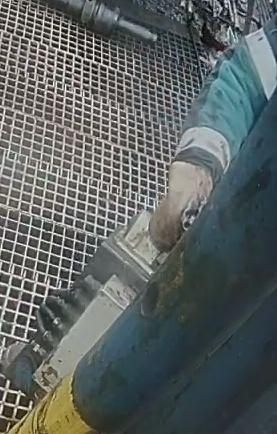gloves: (147, 160, 214, 252)
